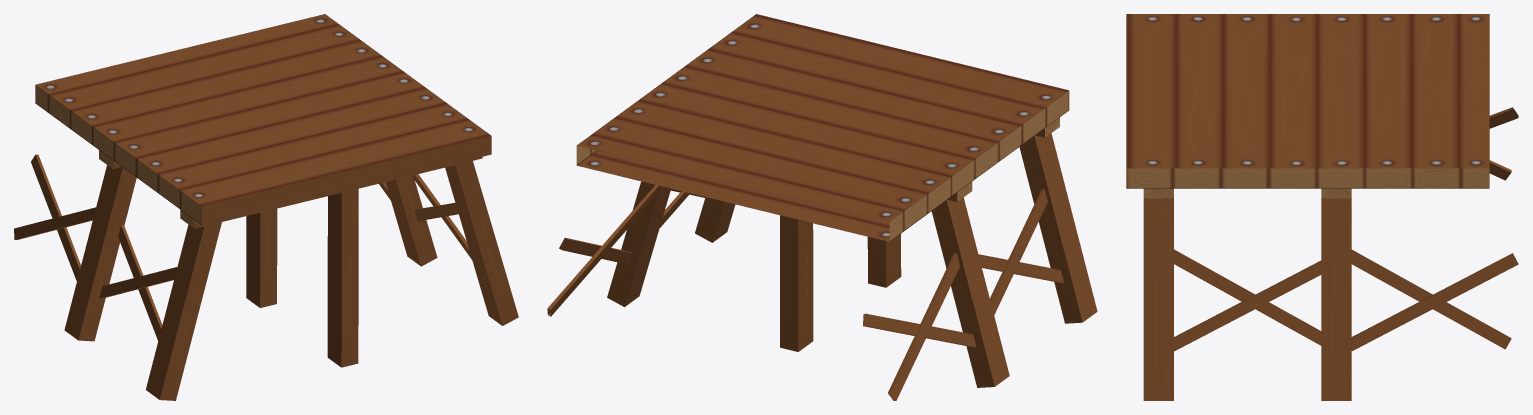
The model's file is Pier.fbx.
3 renders of one model, left to right at view 1: azimuth 30°, elevation 25°; view 2: azimuth 150°, elevation 25°; view 3: azimuth 270°, elevation 25°, orthographic. The views are drawn at different scales.
Parts seen in each view (by area): view 1: pCube17; view 2: pCube17; view 3: pCube17.
Boxes of the visible parts, <box> form: pCube17: <box>14,14,518,400</box>; pCube17: <box>547,14,1097,400</box>; pCube17: <box>1126,14,1518,400</box>.
Bounding box in the file's own units: 456 × 246 × 395.
